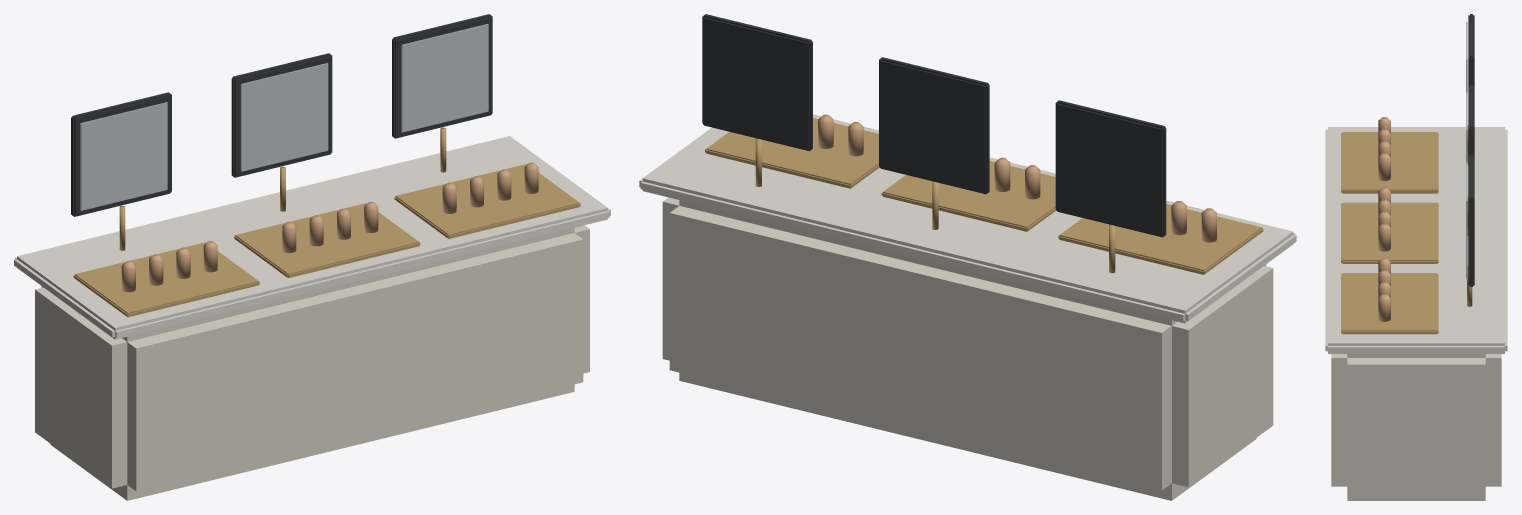
Rendered from beauty_consultation_island.glb.
The picture shows the model from 3 angles, left to right: view 1: azimuth 30°, elevation 25°; view 2: azimuth 150°, elevation 25°; view 3: azimuth 270°, elevation 25°; orthographic projection. The views are drawn at different scales.
Visible parts, largest first — view 1: beauty_consultation_island_V17_lacquer_chalk, beauty_consultation_island_Honed_solid_surface, beauty_consultation_island_Brushed_stainless, beauty_consultation_island_Satin_champagne, beauty_consultation_island_Anodised_graphite, beauty_consultation_island_V17_ceramic_clay; view 2: beauty_consultation_island_V17_lacquer_chalk, beauty_consultation_island_Anodised_graphite, beauty_consultation_island_Honed_solid_surface, beauty_consultation_island_Satin_champagne, beauty_consultation_island_V17_ceramic_clay; view 3: beauty_consultation_island_V17_lacquer_chalk, beauty_consultation_island_Honed_solid_surface, beauty_consultation_island_Satin_champagne, beauty_consultation_island_V17_ceramic_clay, beauty_consultation_island_Anodised_graphite, beauty_consultation_island_Brushed_stainless.
Part boxes in pixels (bbox=[...]): beauty_consultation_island_V17_lacquer_chalk: bbox=[35, 225, 589, 500]; beauty_consultation_island_Honed_solid_surface: bbox=[14, 136, 610, 339]; beauty_consultation_island_Brushed_stainless: bbox=[80, 24, 488, 210]; beauty_consultation_island_Satin_champagne: bbox=[73, 127, 580, 317]; beauty_consultation_island_Anodised_graphite: bbox=[71, 14, 492, 216]; beauty_consultation_island_V17_ceramic_clay: bbox=[121, 162, 538, 292]; beauty_consultation_island_V17_lacquer_chalk: bbox=[662, 197, 1273, 500]; beauty_consultation_island_Anodised_graphite: bbox=[702, 14, 1166, 237]; beauty_consultation_island_Honed_solid_surface: bbox=[639, 114, 1296, 323]; beauty_consultation_island_Satin_champagne: bbox=[705, 118, 1263, 274]; beauty_consultation_island_V17_ceramic_clay: bbox=[818, 114, 1216, 242]; beauty_consultation_island_V17_lacquer_chalk: bbox=[1331, 354, 1501, 500]; beauty_consultation_island_Honed_solid_surface: bbox=[1325, 127, 1507, 353]; beauty_consultation_island_Satin_champagne: bbox=[1341, 126, 1472, 334]; beauty_consultation_island_V17_ceramic_clay: bbox=[1378, 117, 1390, 321]; beauty_consultation_island_Anodised_graphite: bbox=[1468, 14, 1474, 286]; beauty_consultation_island_Brushed_stainless: bbox=[1466, 22, 1467, 278].
Size of the model in its own units: 2.92 by 1.85 by 1.03.
